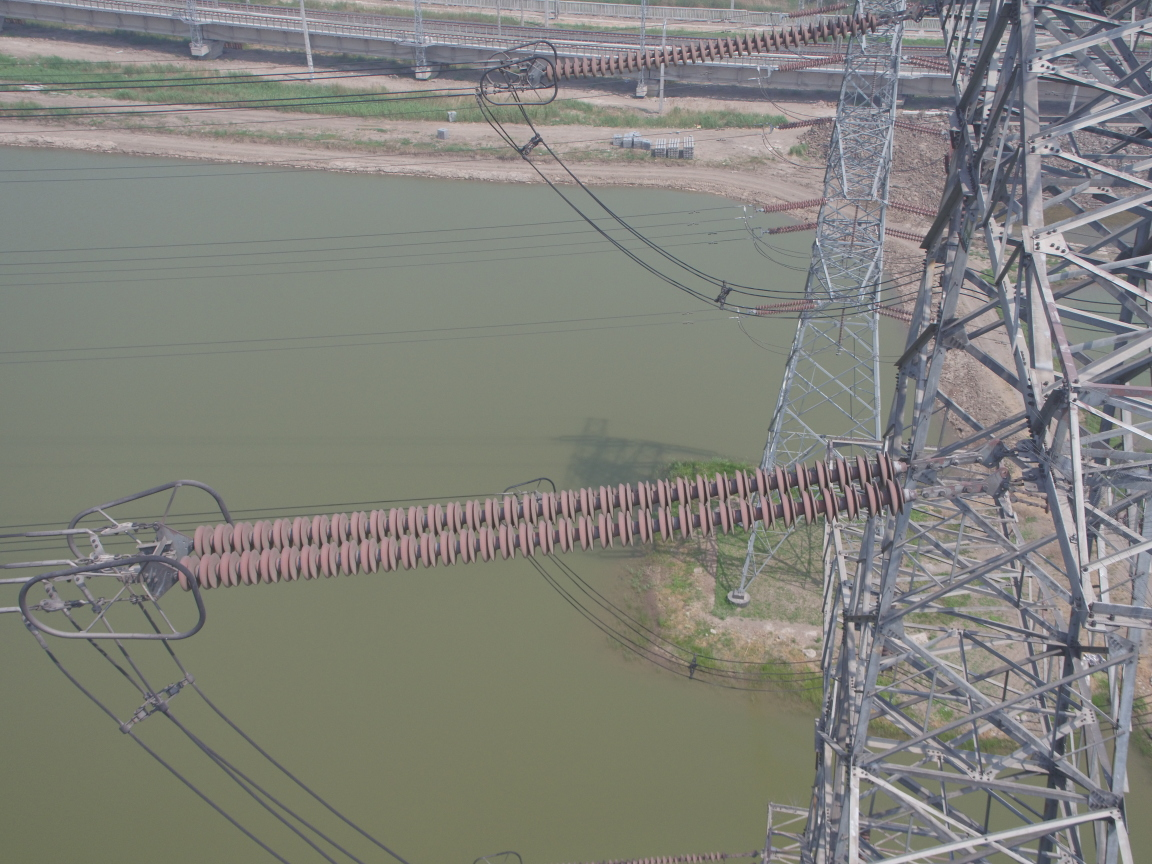insulator: (158, 447, 940, 594), (537, 9, 895, 82)
